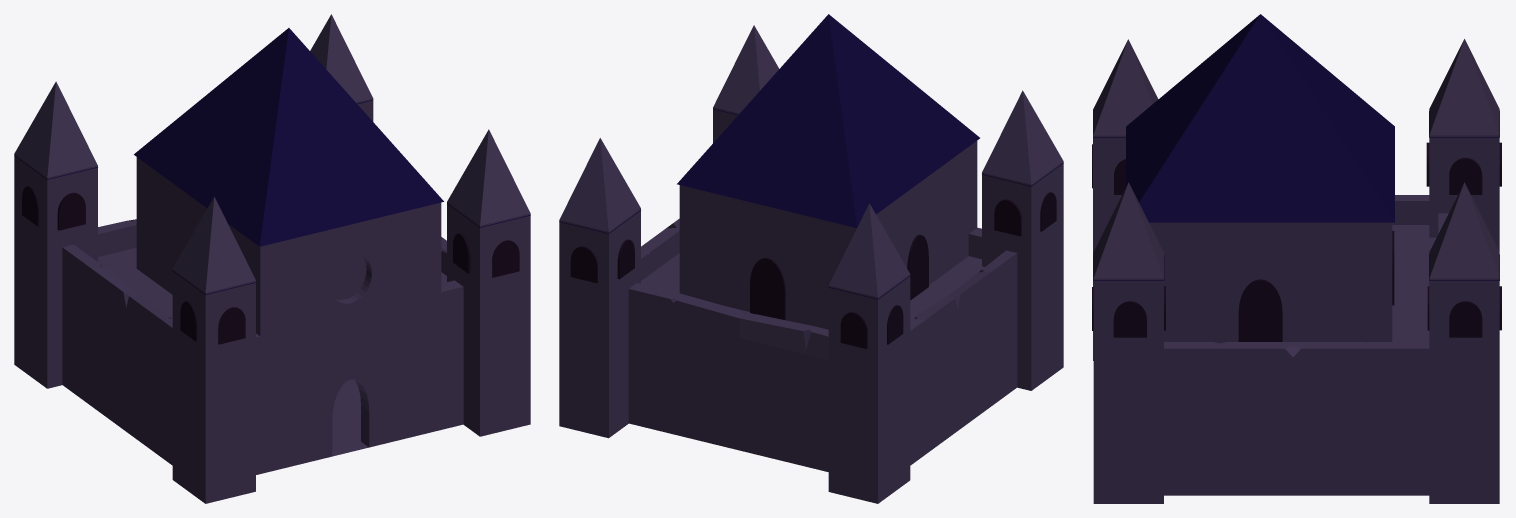
Rendered from cursed_townhall.fbx.
3 renders of one model, left to right at view 1: azimuth 30°, elevation 25°; view 2: azimuth 150°, elevation 25°; view 3: azimuth 270°, elevation 25°, orthographic. The views are drawn at different scales.
Visible parts, largest first — view 1: cursed townhall; view 2: cursed townhall; view 3: cursed townhall.
Part boxes in pixels (x1,y1,x2,y2): cursed townhall: [14, 14, 530, 503]; cursed townhall: [559, 14, 1063, 503]; cursed townhall: [1092, 14, 1501, 503].
Bounding box in the file's own units: 1134 × 1252 × 1148.
